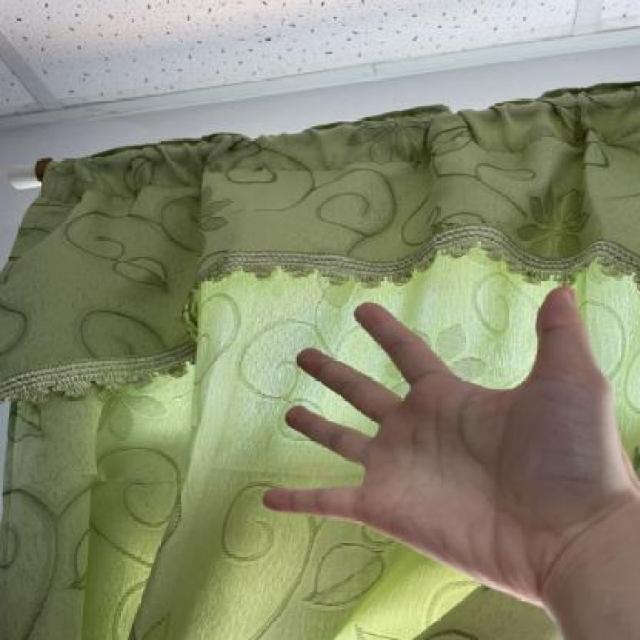hand: (243, 264, 640, 624)
